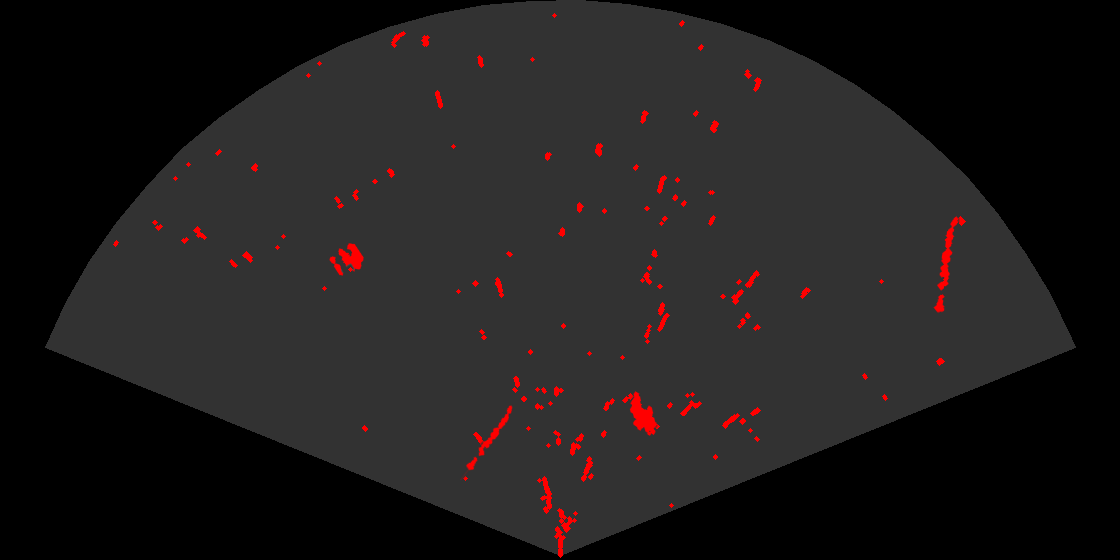AUV: (628, 390, 658, 437)
ball: (328, 242, 365, 277)
chain: (460, 404, 514, 480), (932, 215, 960, 314)
